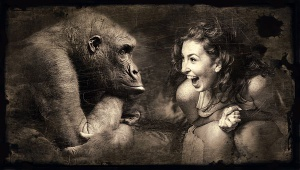female: (177, 34, 223, 95)
